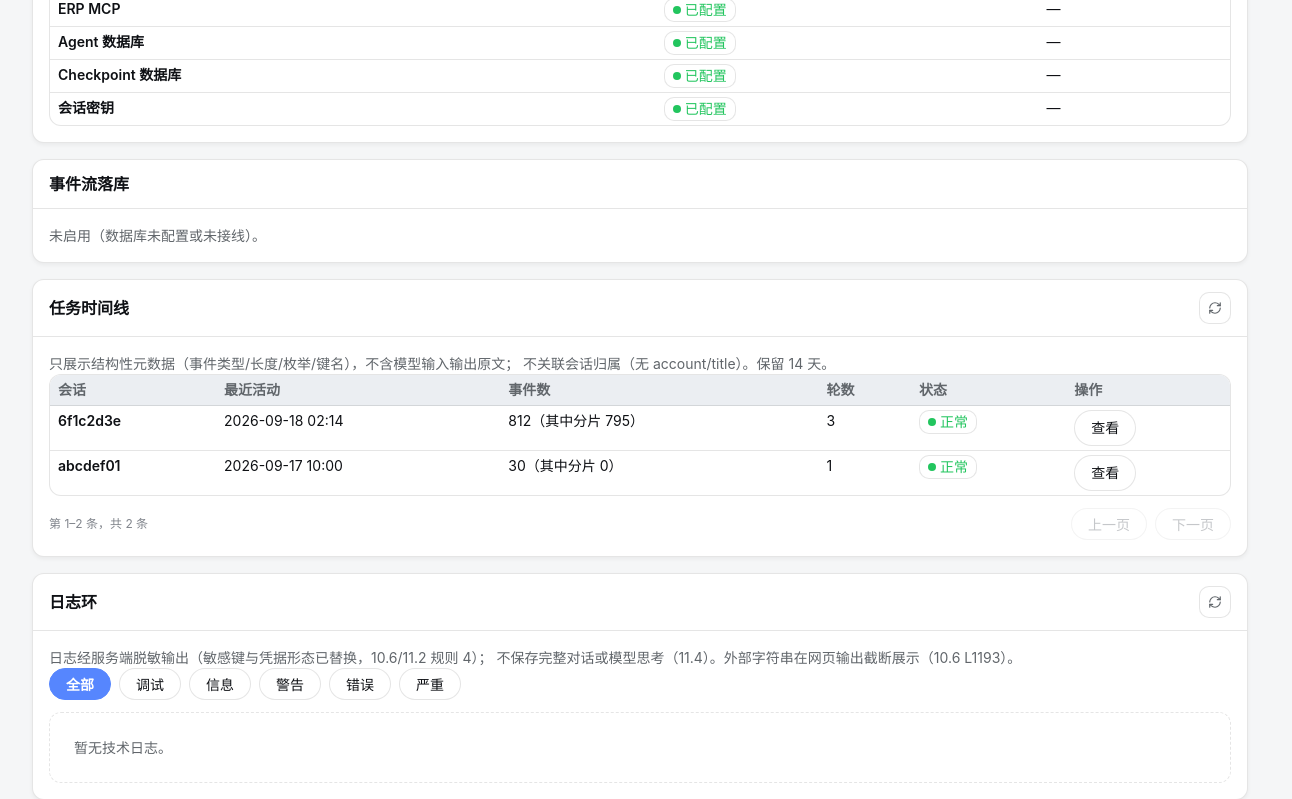
Test case: StreamTimelinePanel 任务时间线 › 30 payload 未知键回退显示键名本身（漂移可见，不隐藏）
This screenshot has width=1292, height=799.
(page scrolled)
Click the button "查看" in the row of "6f1c2d3e".
click(1105, 428)  # box left=1074, top=410, right=1136, bottom=446
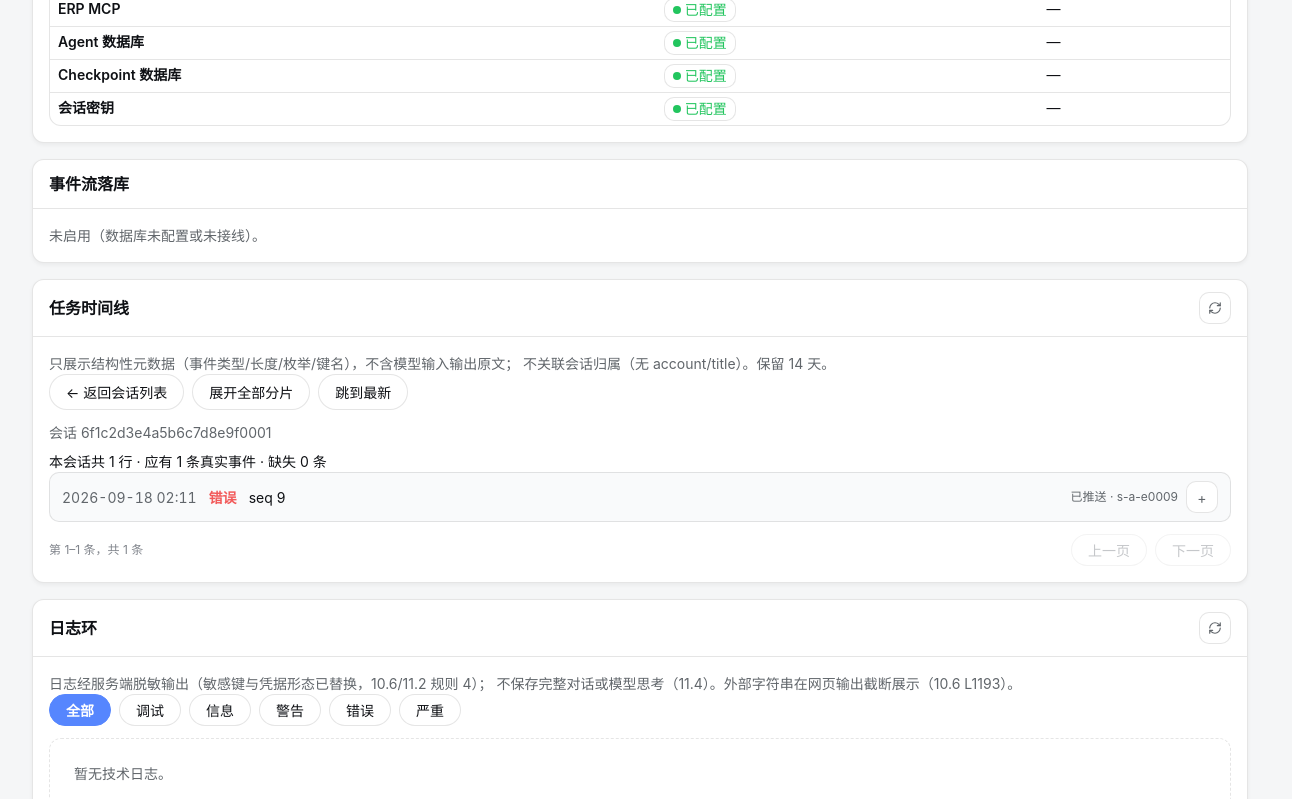
Now the button "← 返回会话列表" is shown, box left=49, top=374, right=184, bottom=410
Click the button named "展开事件明细".
click(1202, 497)  # box left=1186, top=481, right=1218, bottom=513
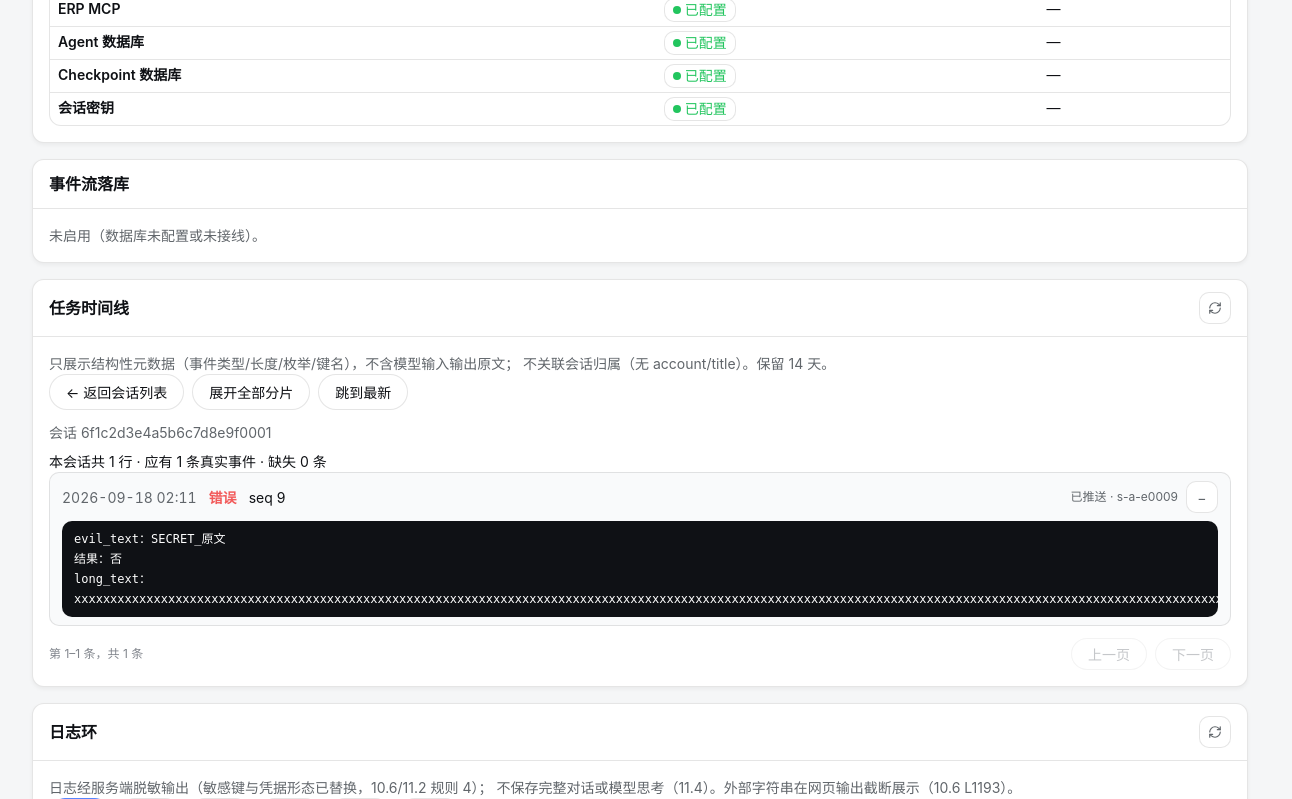
Now the text "evil_text" is shown, box left=74, top=532, right=226, bottom=546
Now the text "结果：否" is shown, box left=74, top=552, right=122, bottom=566
